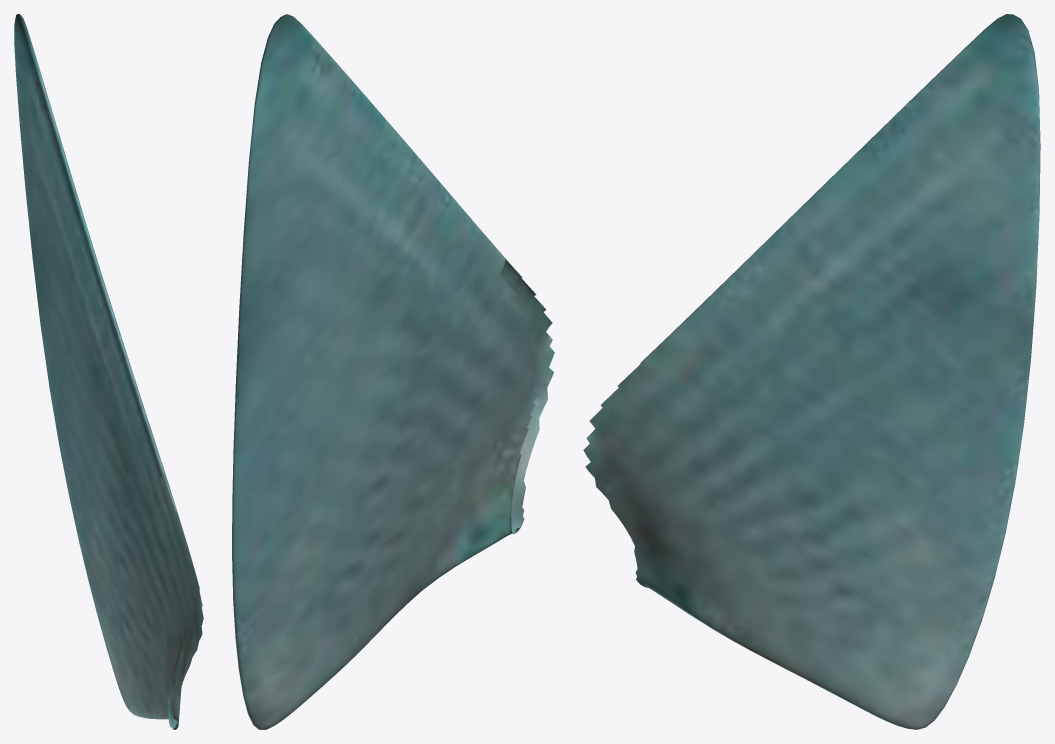
The model's file is AletaIzqPezAzul.obj.
The picture shows the model from 3 angles, left to right: view 1: azimuth 30°, elevation 25°; view 2: azimuth 150°, elevation 25°; view 3: azimuth 270°, elevation 25°; orthographic projection. The views are drawn at different scales.
Visible parts, largest first — view 1: AletaIzq; view 2: AletaIzq; view 3: AletaIzq.
Part boxes in pixels (bbox=[...]): AletaIzq: bbox=[14, 14, 203, 729]; AletaIzq: bbox=[232, 14, 554, 729]; AletaIzq: bbox=[583, 14, 1040, 729].
Size of the model in its own units: 0.151 by 1.05 by 0.6331.
1 material, 1 textured.
